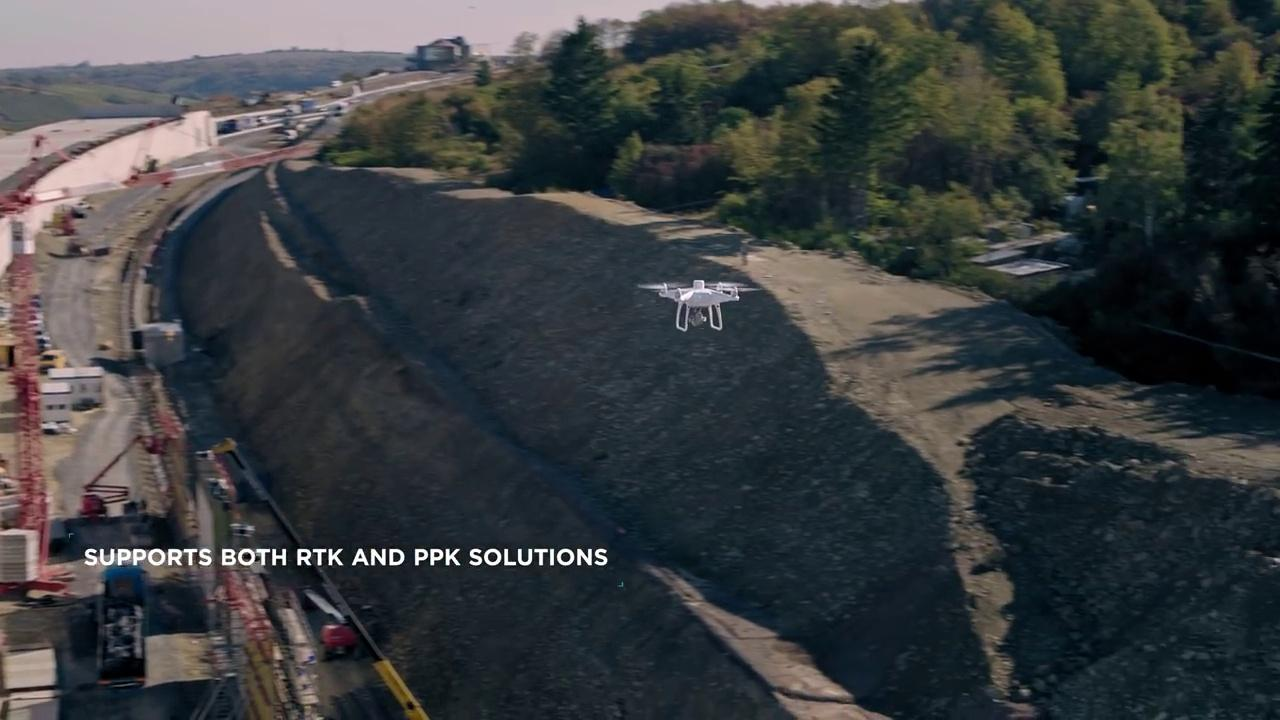drone: (633, 279, 762, 333)
